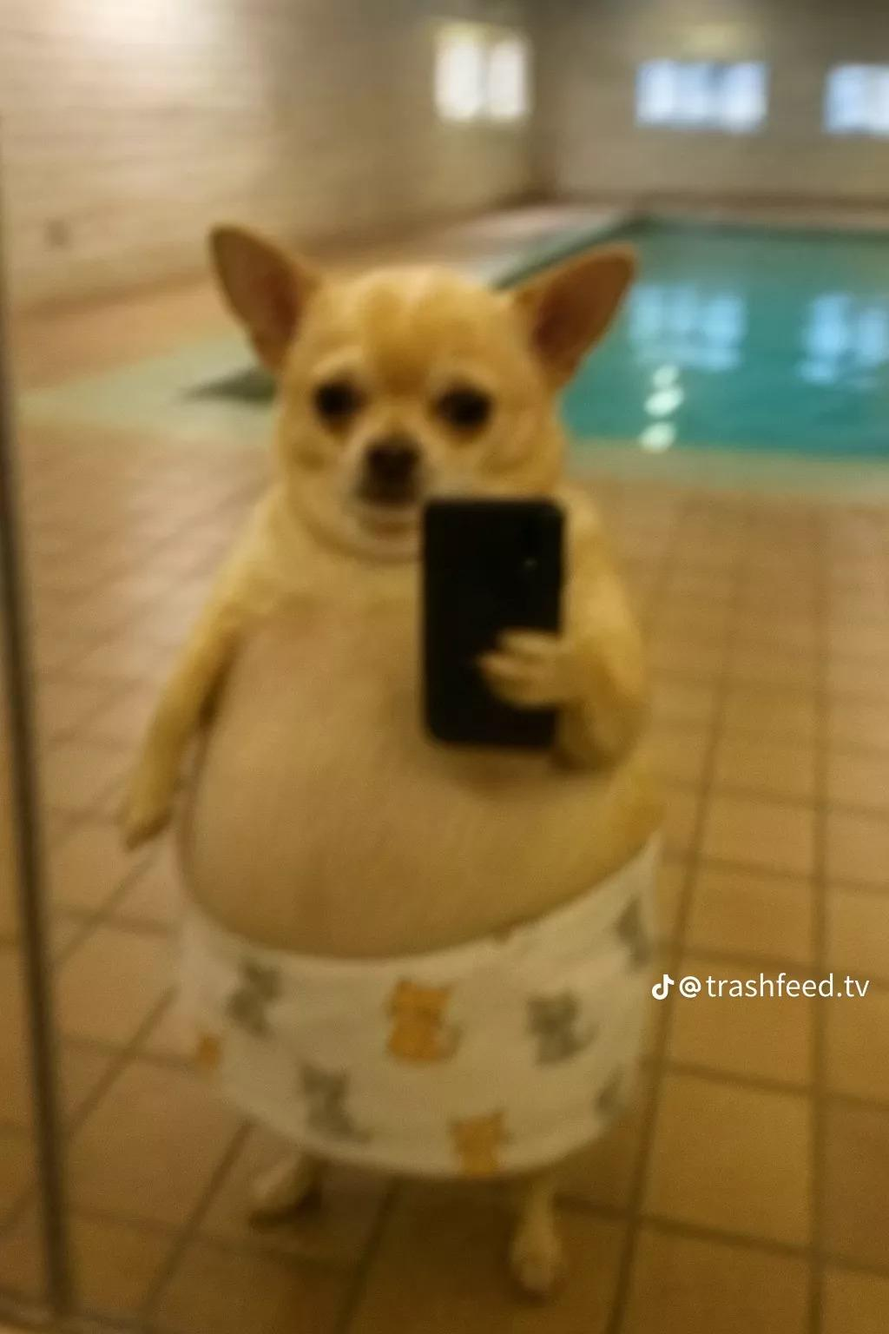adult_dog: (114, 218, 681, 1300)
